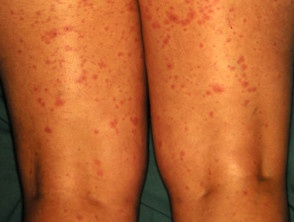SJS-TEN: (3, 0, 156, 162), (139, 0, 275, 142)
